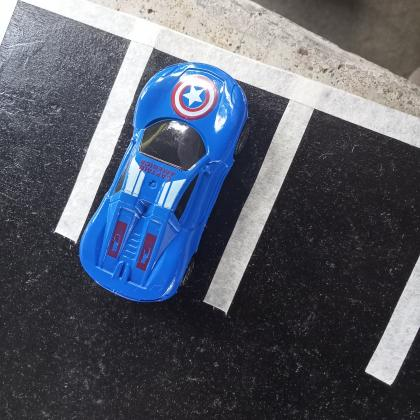Car: (81, 62, 249, 303)
